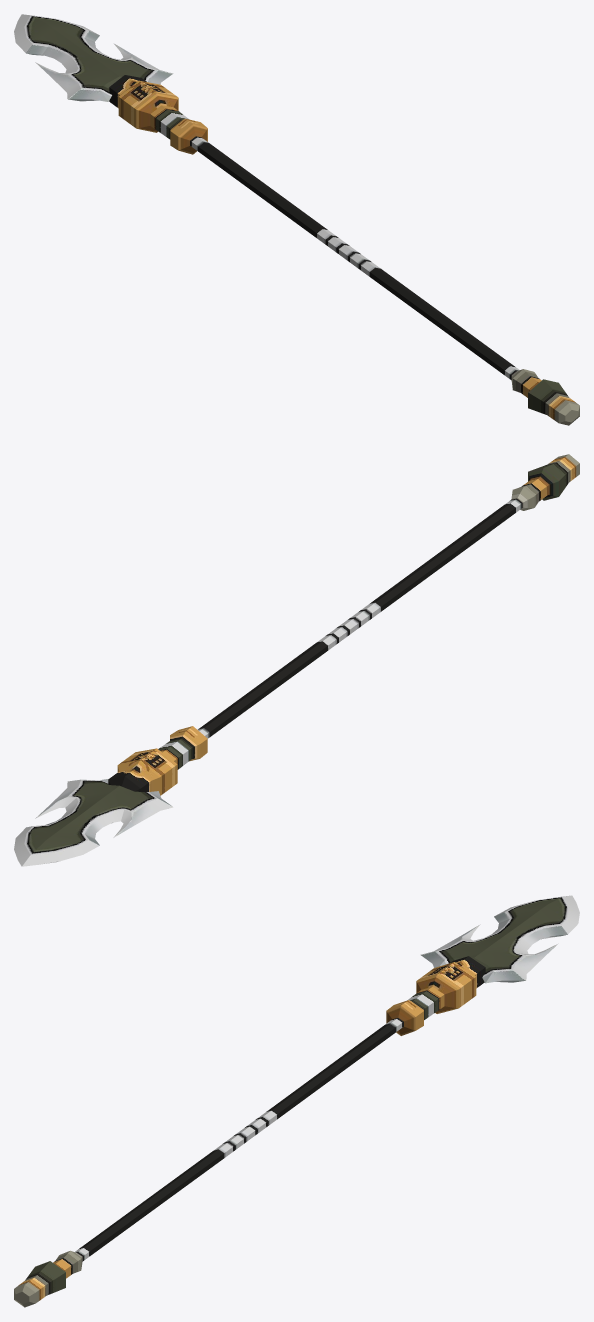
Rendered from weapon__test_otegine.glb.
The picture shows the model from 3 angles, top to bottom: view 1: azimuth 30°, elevation 25°; view 2: azimuth 150°, elevation 25°; view 3: azimuth 330°, elevation 25°; orthographic projection.
Size of the model in its own units: 0.3806 by 0.1348 by 3.42.
Materials: 1 (1 with a texture image).
